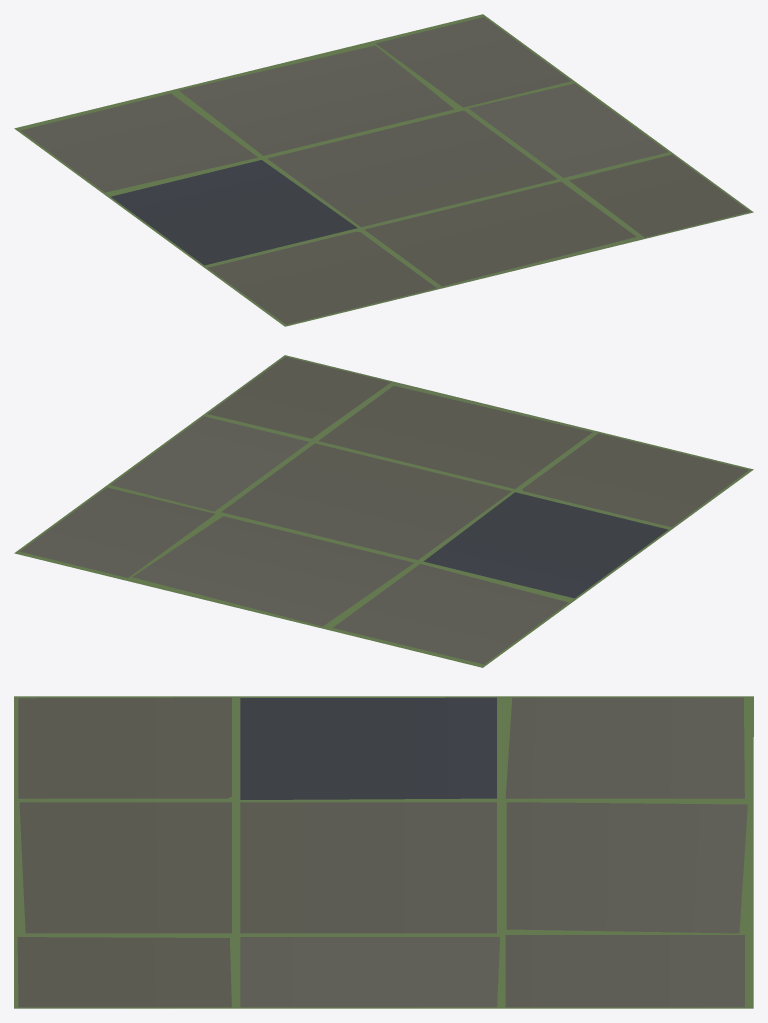
The model's file is Tile_02.fbx.
3 views of the same model, one above another, from view 1: azimuth 30°, elevation 25°; view 2: azimuth 150°, elevation 25°; view 3: azimuth 270°, elevation 25° (orthographic). The views are drawn at different scales.
Parts seen in each view (by area): view 1: Tile_02; view 2: Tile_02; view 3: Tile_02.
Part boxes in pixels (box(x1,y1,x2,y2)): Tile_02: box(14, 14, 753, 326); Tile_02: box(14, 355, 753, 667); Tile_02: box(14, 696, 753, 1008).
Bounding box in the file's own units: 3 × 9.54e-07 × 3.
